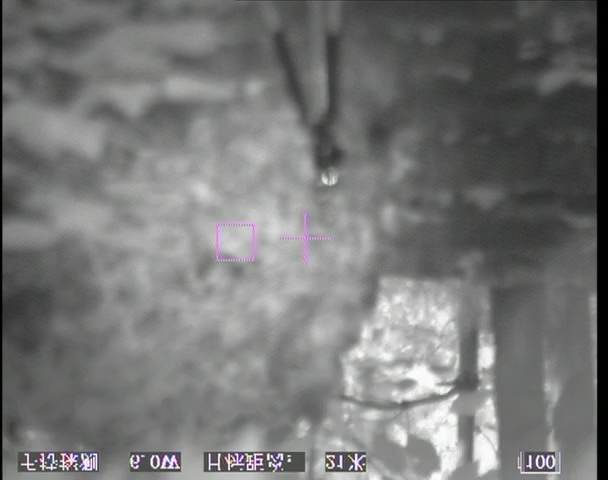my: (318, 164, 339, 187)
